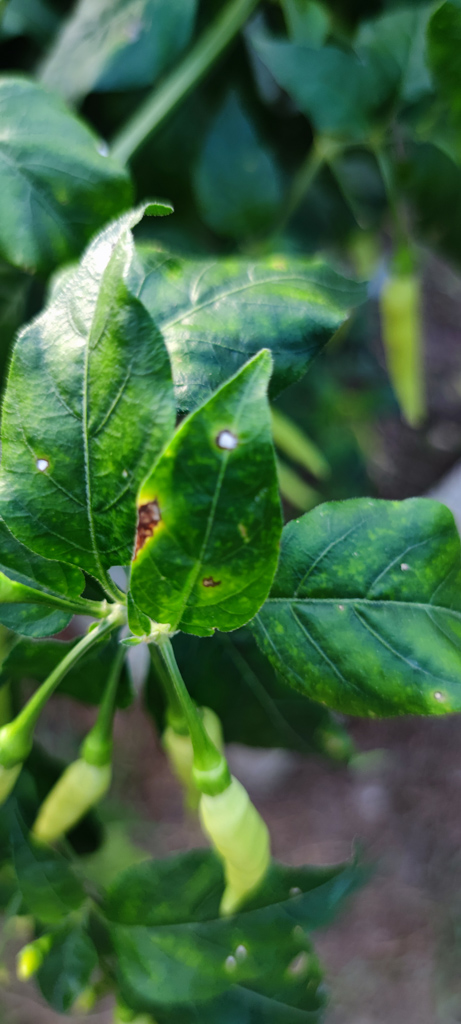Canker: (124, 494, 167, 568)
frog-eye leafspot: (213, 425, 249, 456), (25, 451, 60, 479), (198, 572, 230, 593), (422, 686, 452, 700)
